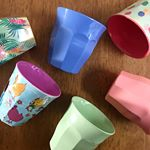cups: (46, 5, 109, 76), (1, 59, 64, 126), (47, 93, 119, 150), (105, 1, 150, 61)
